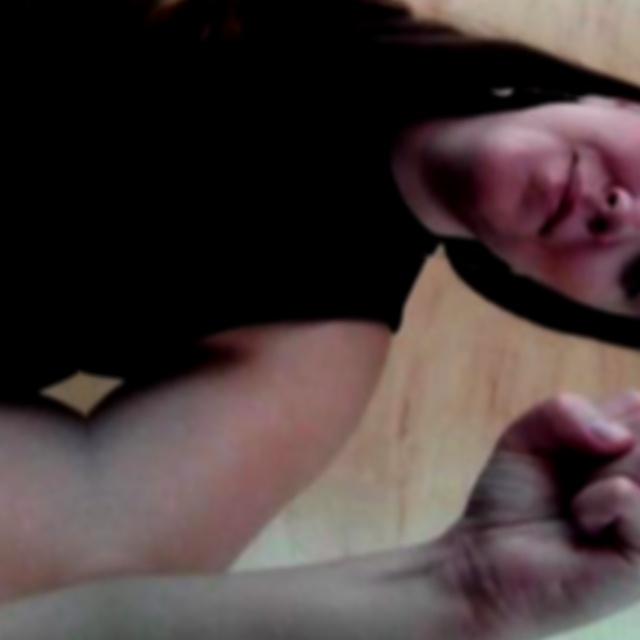Rock: (411, 328, 640, 640)
